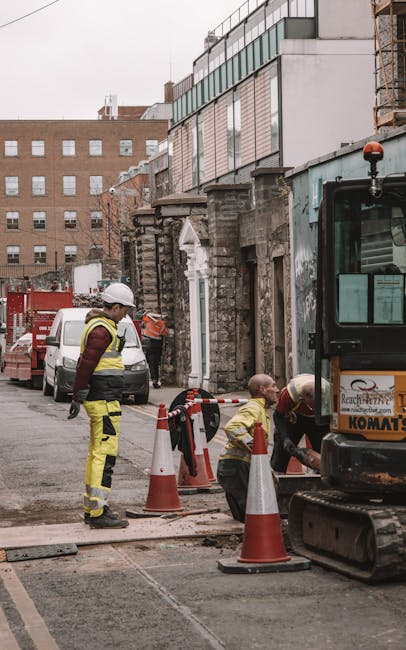traffic_cone: (216, 421, 311, 575), (125, 402, 208, 519), (125, 403, 185, 518), (175, 389, 212, 491), (184, 389, 217, 483), (285, 433, 313, 475)
